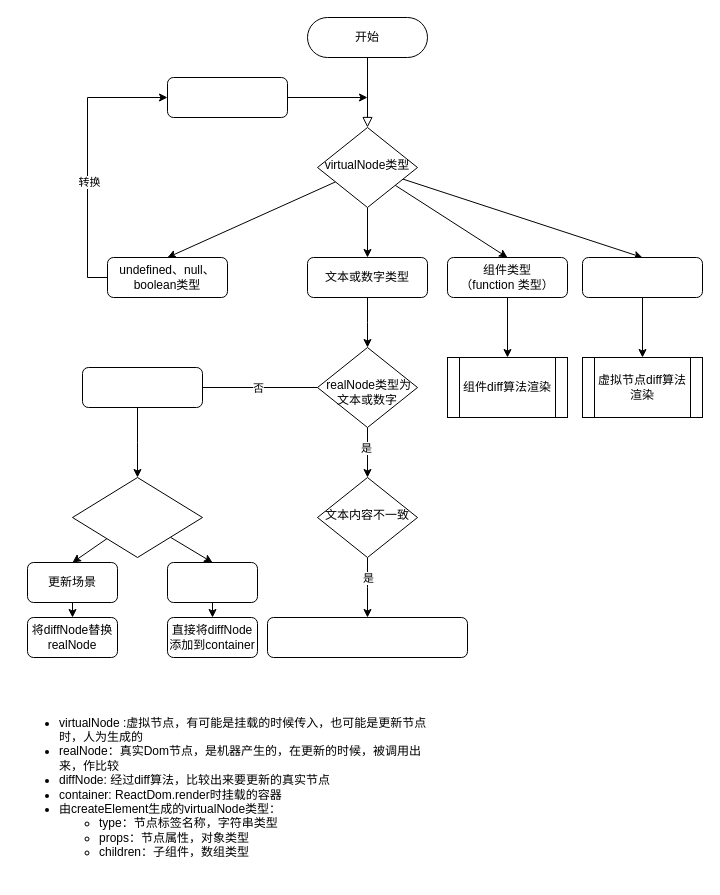
Image size: 720x895. Some labels were removed from this diagram. The shapes that lost their labels are listed below. From the top down, each one's box as (x1, y1, x2, y2) in pixels, then its label:
(166, 76, 288, 118): virtualNode = ""
(582, 256, 702, 298): 由createElement生成的virtualNode类型
(82, 366, 202, 408): 创建diffNode
(72, 476, 202, 558): 通过realNode和container判断场景
(166, 562, 258, 602): 初始挂载场景
(266, 616, 468, 658): realNode.textContent = virtualNode 直接改变节点内部文本内容
